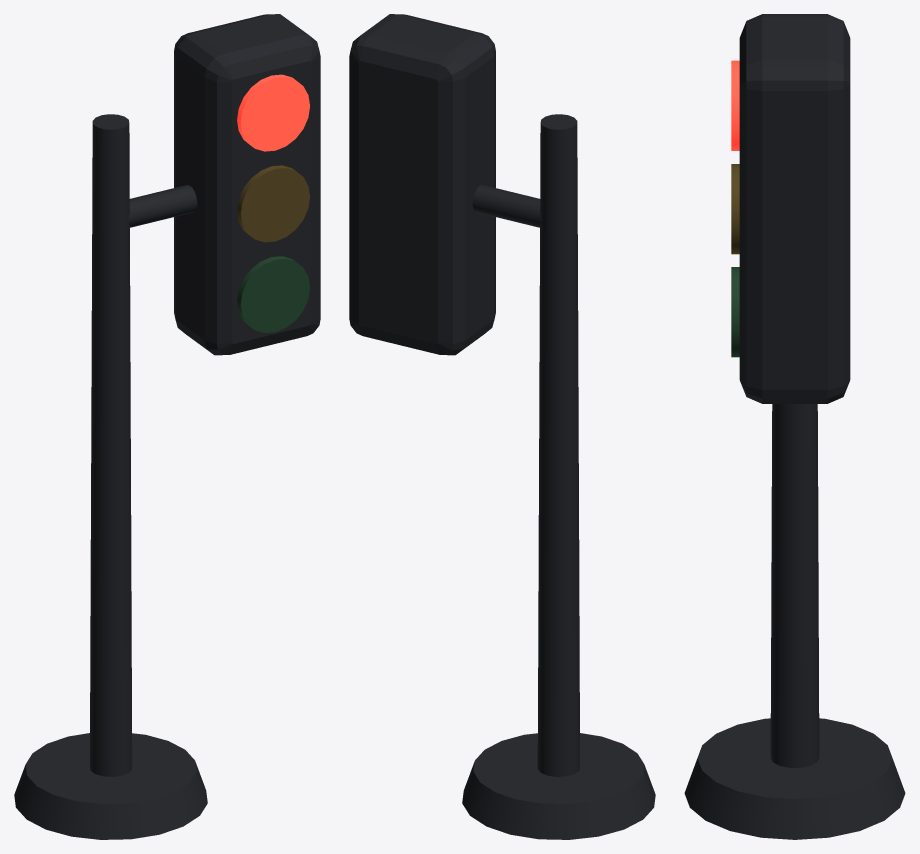
Rendered from traffic_light_red.glb.
3 renders of one model, left to right at view 1: azimuth 30°, elevation 25°; view 2: azimuth 150°, elevation 25°; view 3: azimuth 270°, elevation 25°, orthographic. The views are drawn at different scales.
Visible parts, largest first — view 1: HeadBox, Pole, Base, Lamp_Yellow, Lamp_Green, Lamp_Red, Arm; view 2: HeadBox, Pole, Base, Arm; view 3: HeadBox, Base, Pole, Lamp_Red, Lamp_Yellow, Lamp_Green.
Boxes of the visible parts, bbox=[...] form: HeadBox: bbox=[174, 14, 320, 355]; Pole: bbox=[90, 114, 132, 776]; Base: bbox=[14, 733, 207, 839]; Lamp_Yellow: bbox=[237, 165, 309, 242]; Lamp_Green: bbox=[237, 256, 309, 332]; Lamp_Red: bbox=[237, 74, 309, 151]; Arm: bbox=[128, 185, 197, 227]; HeadBox: bbox=[349, 14, 495, 355]; Pole: bbox=[537, 114, 579, 776]; Base: bbox=[462, 733, 655, 839]; Arm: bbox=[472, 185, 541, 227]; HeadBox: bbox=[739, 14, 850, 403]; Base: bbox=[684, 718, 905, 839]; Pole: bbox=[770, 404, 819, 767]; Lamp_Red: bbox=[731, 60, 739, 150]; Lamp_Yellow: bbox=[731, 164, 739, 254]; Lamp_Green: bbox=[731, 267, 739, 357].
Size of the model in its own units: 1.12 by 2.82 by 0.68.
